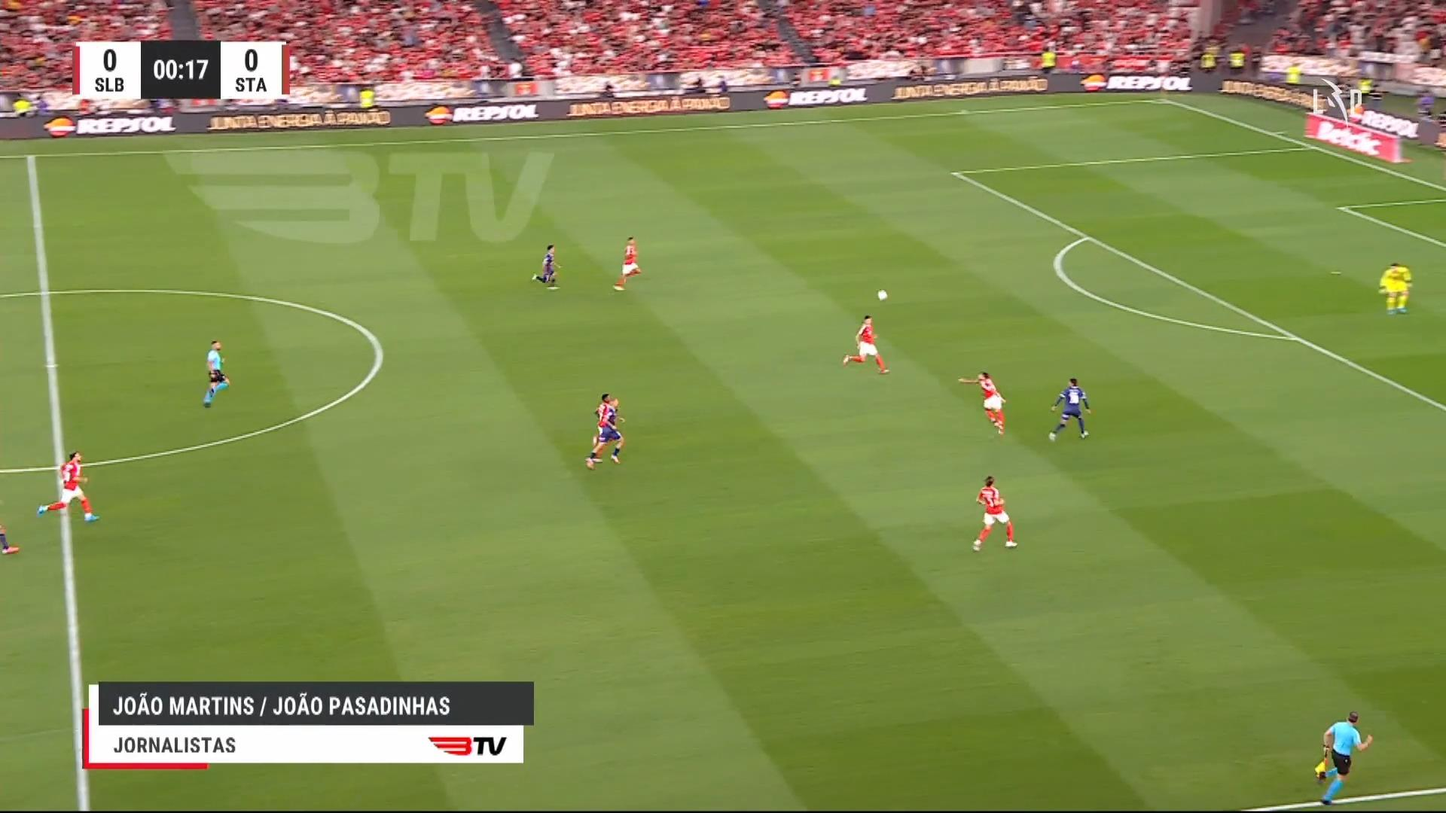ball: (877, 289, 887, 301)
goalkeeper: (1377, 261, 1412, 314)
player: (1313, 710, 1373, 805), (35, 450, 99, 522), (971, 474, 1017, 552), (957, 370, 1007, 436), (841, 314, 889, 374), (1048, 376, 1091, 441), (584, 392, 616, 470), (591, 398, 625, 463), (612, 236, 642, 291), (532, 243, 561, 290), (0, 525, 20, 555)
referee: (202, 340, 230, 408)
